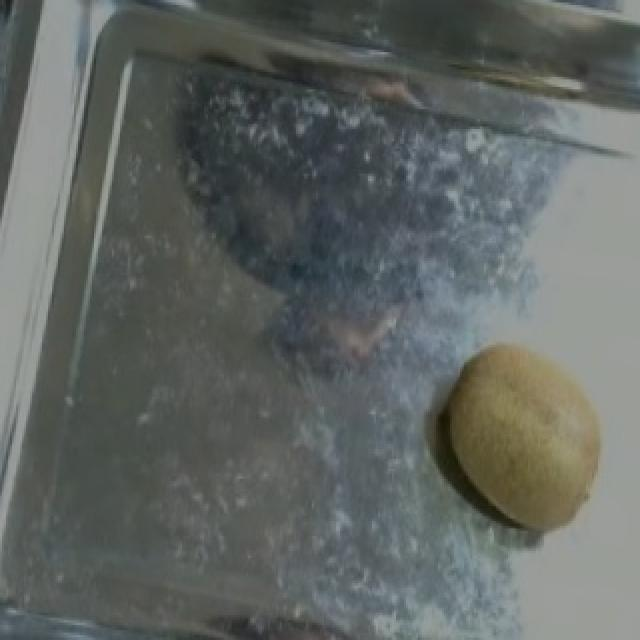Fruit: (426, 322, 634, 546)
